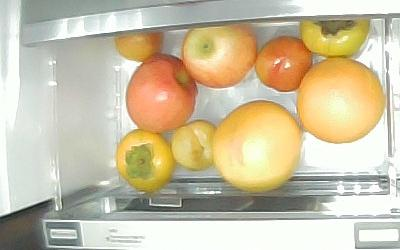apple: (125, 51, 196, 133), (181, 22, 256, 88)
grapefruit: (212, 99, 301, 191), (296, 56, 385, 142)
persimmon: (115, 129, 173, 192), (300, 19, 370, 57)
prune: (255, 35, 312, 92), (170, 120, 217, 170), (114, 31, 161, 62)
